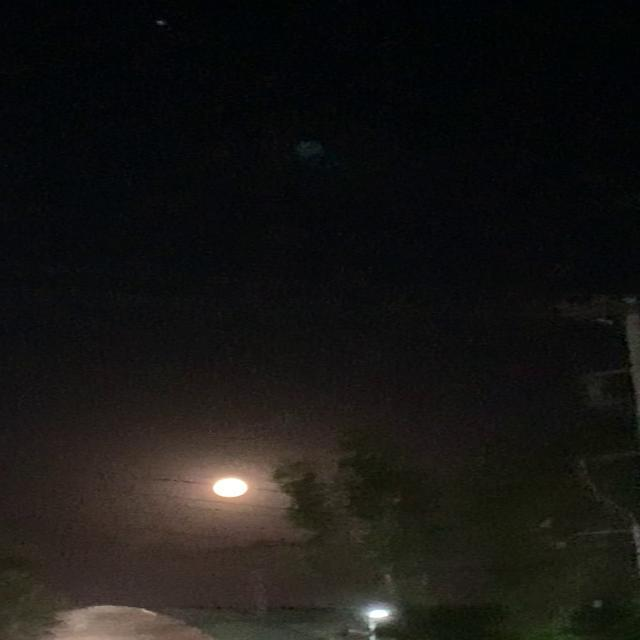moon: (212, 473, 265, 498)
